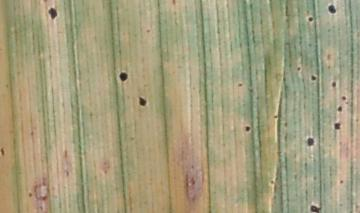tarspot: (44, 6, 62, 23), (114, 68, 132, 85), (325, 2, 339, 18), (304, 133, 316, 151), (134, 94, 149, 108), (330, 120, 345, 134), (307, 200, 323, 213), (307, 70, 319, 85), (241, 122, 255, 134), (334, 102, 346, 116), (305, 13, 316, 26), (328, 79, 339, 90)
